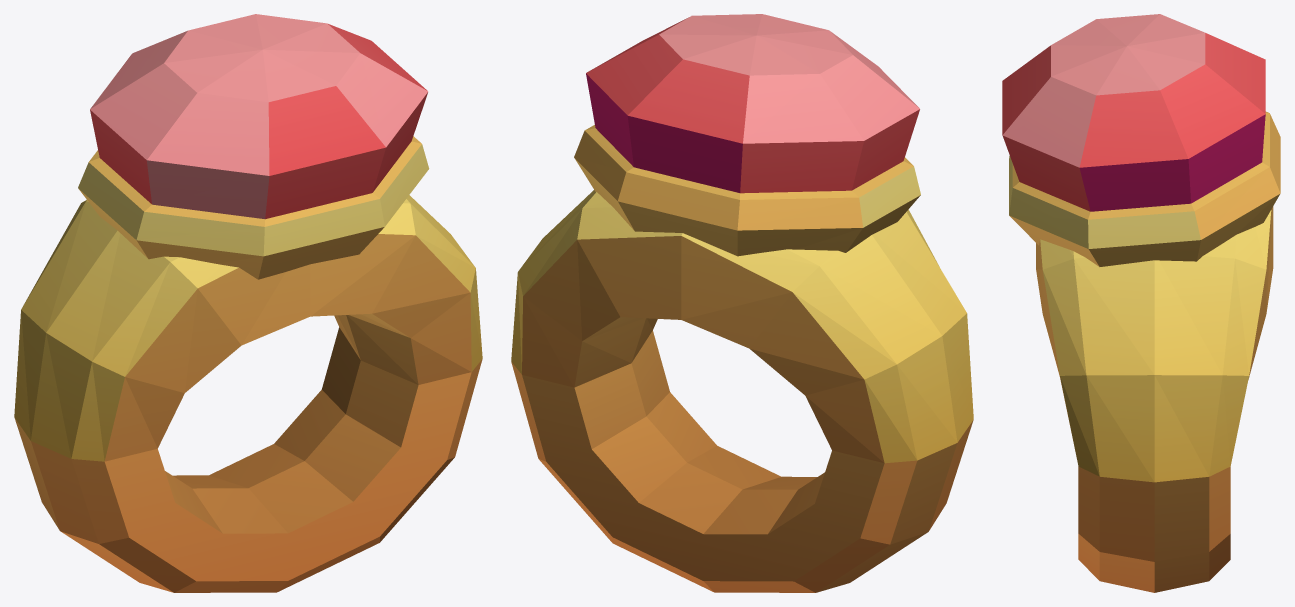
The model's file is source.glb.
3 views of the same model, side by side, from view 1: azimuth 30°, elevation 25°; view 2: azimuth 150°, elevation 25°; view 3: azimuth 270°, elevation 25° (orthographic). The views are drawn at different scales.
Parts seen in each view (by area): view 1: model; view 2: model; view 3: model.
Boxes of the visible parts, x1,y1,x2,y2 form: model: (14, 14, 482, 592); model: (511, 14, 973, 592); model: (1002, 14, 1280, 592).
Size of the model in its own units: 0.52 by 0.62 by 0.3.
Materials: 1 (1 with a texture image).
